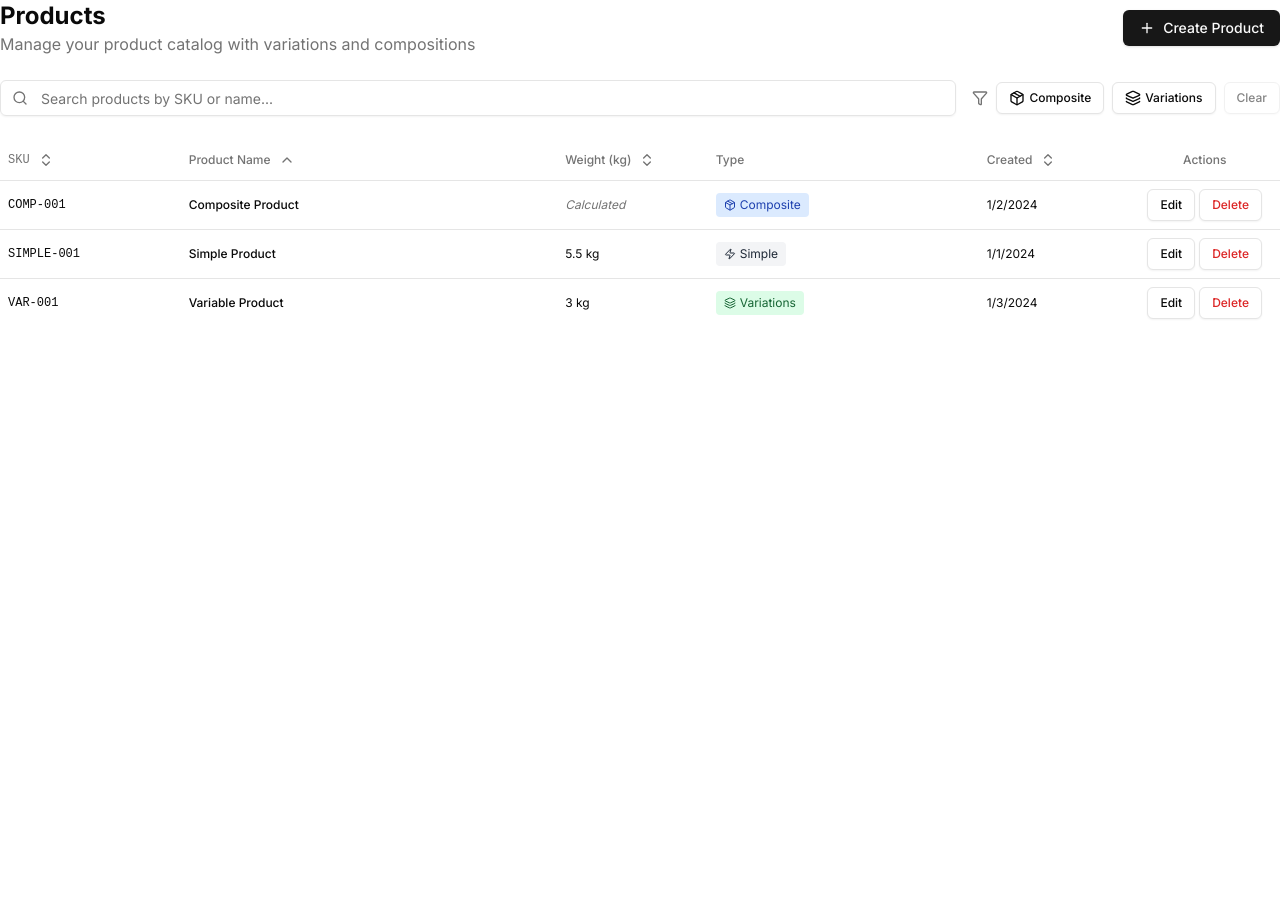
Test: ProductList › cancels deletion when cancel is clicked
This screenshot has width=1280, height=900.
What coordinates should you click on to do the following:
click the button with aria-label "Delete product"
I would click on:
 (1231, 204)
Its box is left=1199, top=188, right=1262, bottom=220.
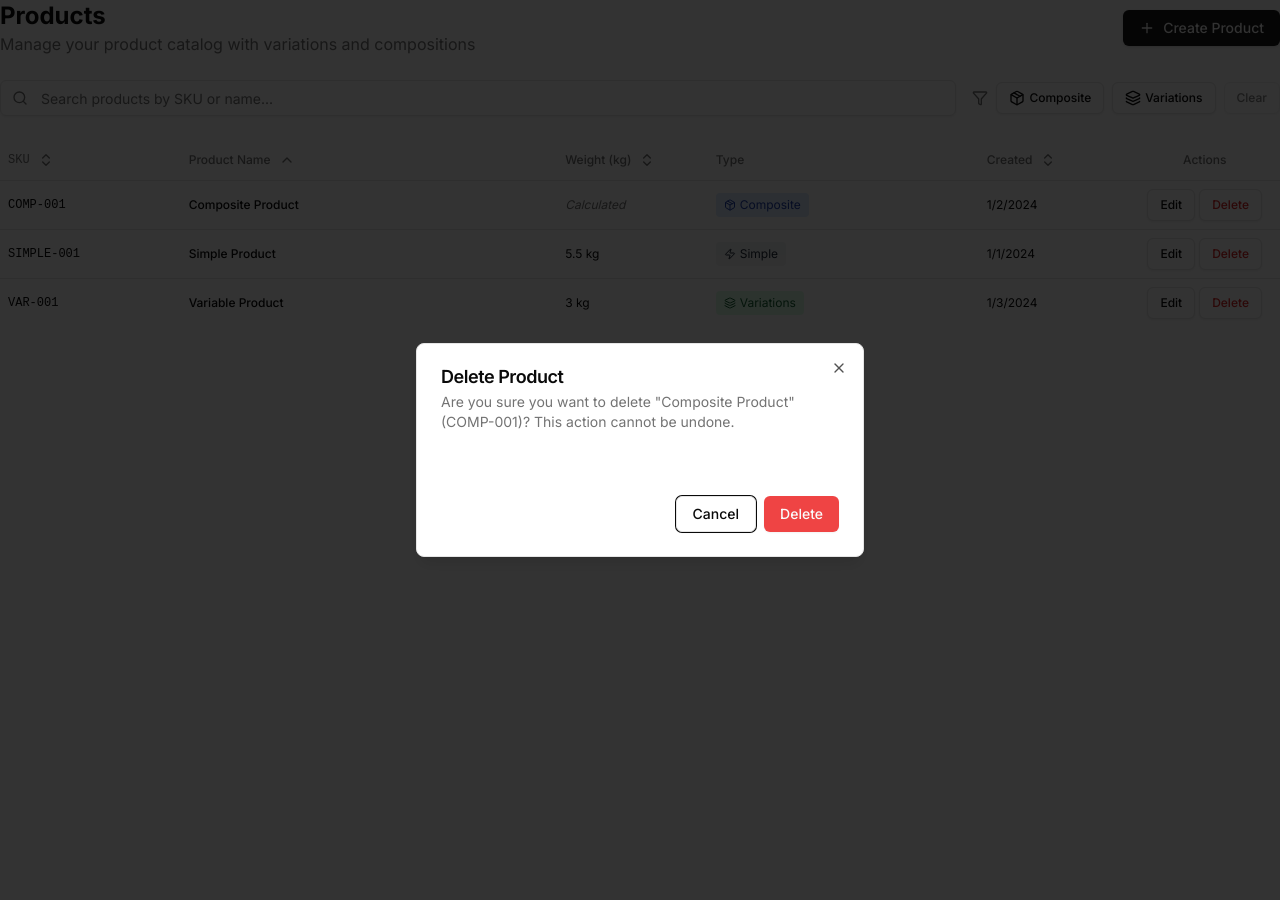
Result: the heading "Delete Product" is shown at left=441, top=366, right=564, bottom=387
What coordinates should you click on to do the following:
click the button "Cancel"
I would click on:
 (716, 514)
Its box is left=676, top=496, right=756, bottom=532.
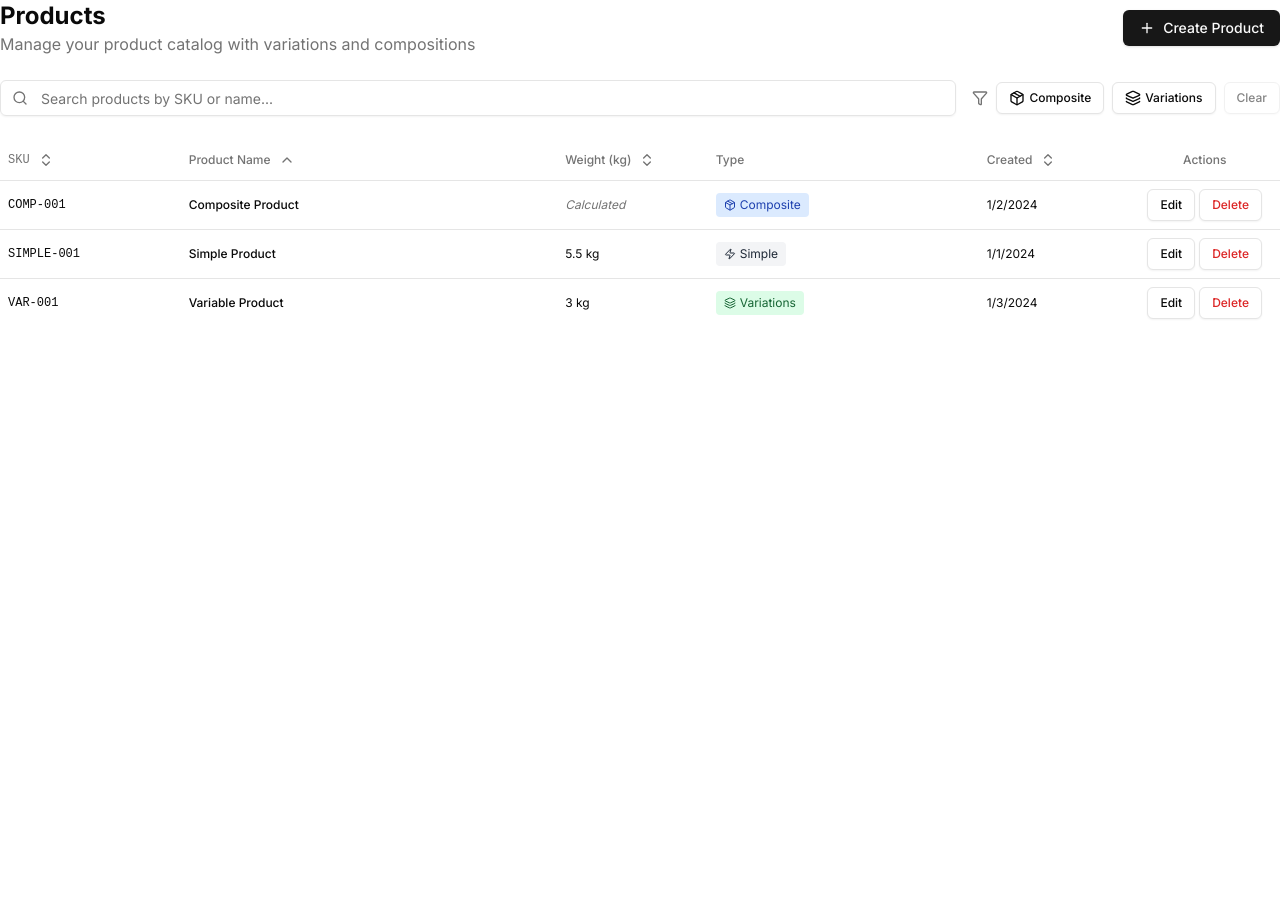
Result: the heading "Delete Product" is gone
